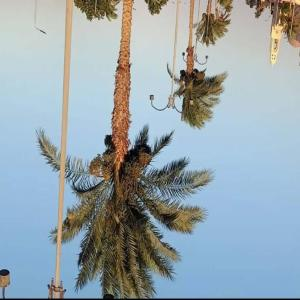palm tree: (36, 0, 216, 297)
